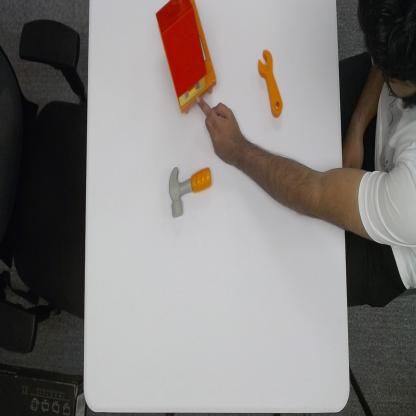Arm: (246, 140, 416, 246)
Hammer: (168, 162, 213, 220)
Hand: (194, 93, 246, 165)
House: (154, 0, 218, 117)
Screwdriver: (257, 48, 284, 120)
